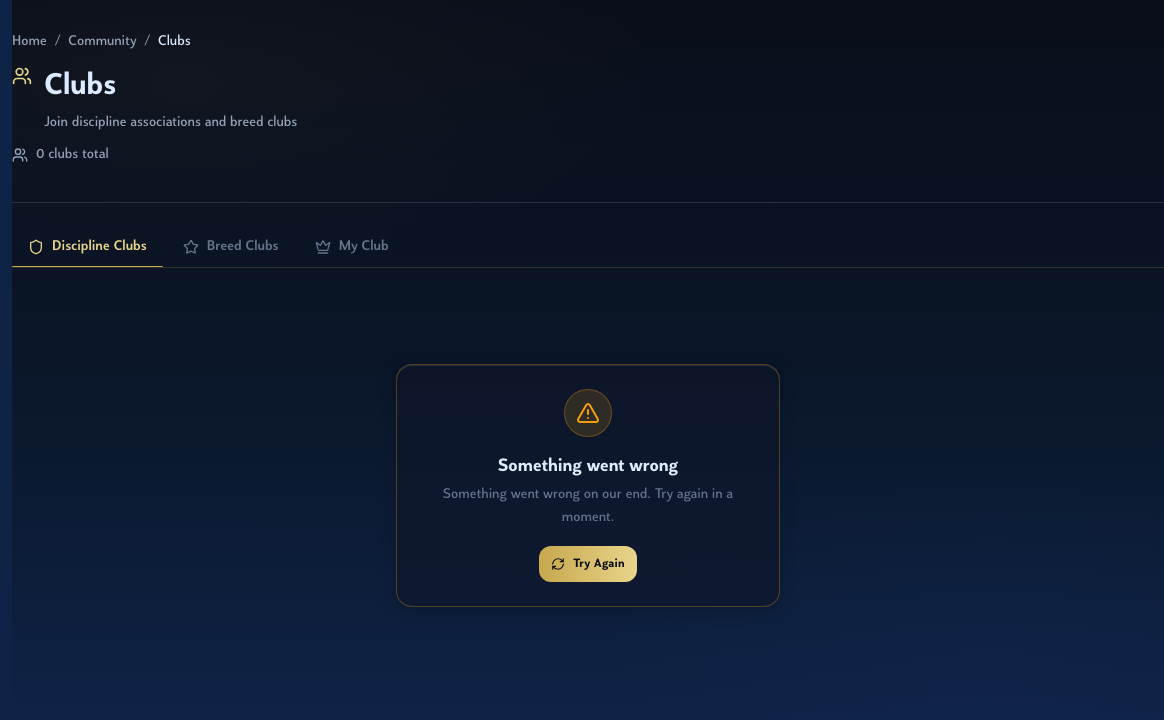
Test case: ClubsPage — discipline grid four-state (Equoria-l22ki) › retry re-fetches and renders cards (refetch is wired to the error retry)
Click the button "Try Again": {"x": 588, "y": 564} [539,546,637,582]
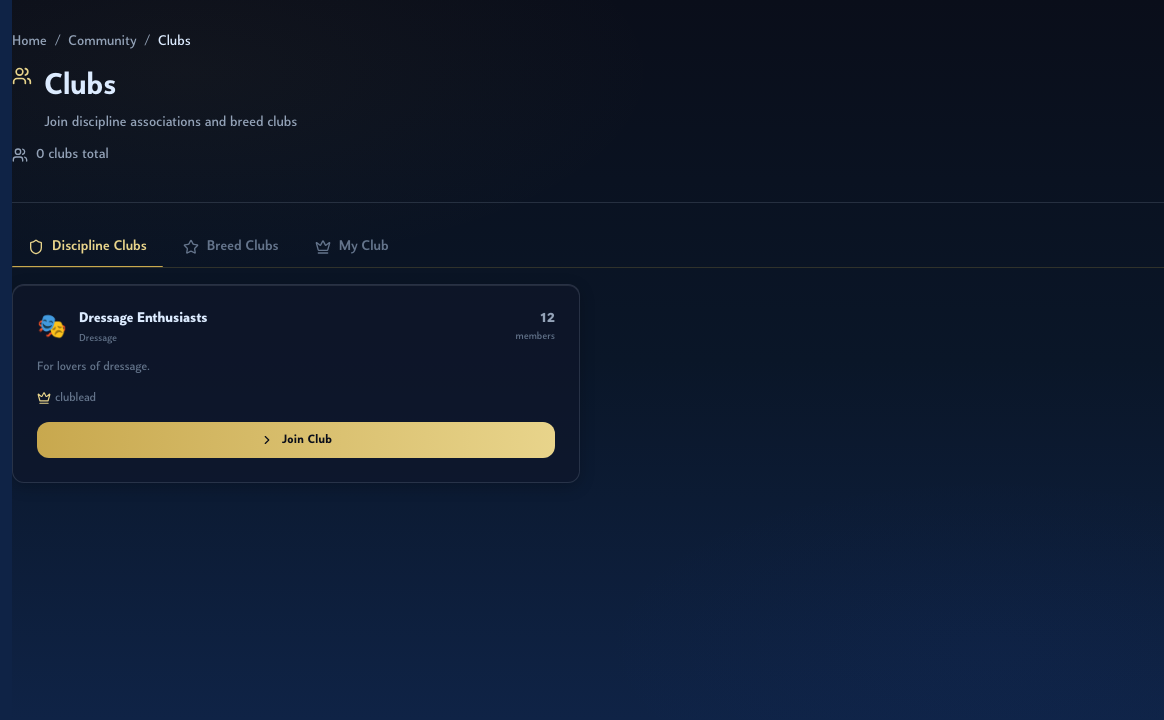
expect the heading "Dressage Enthusiasts" is shown: met, box [79,309,207,329]
